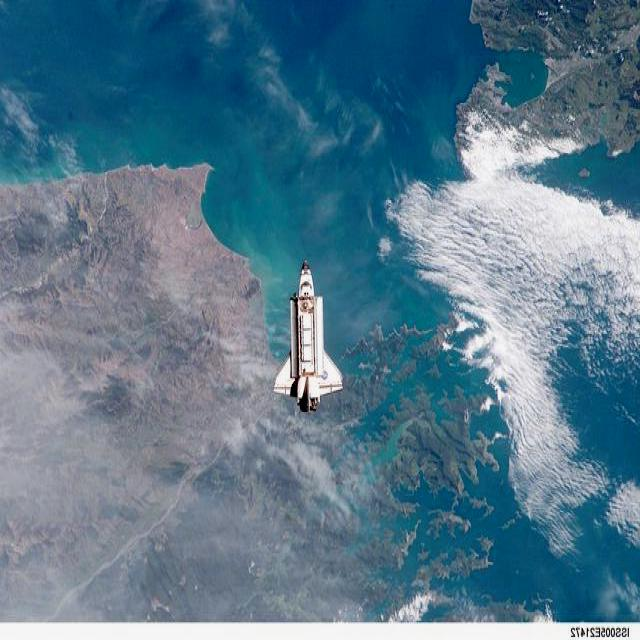satellite: (274, 261, 342, 411)
